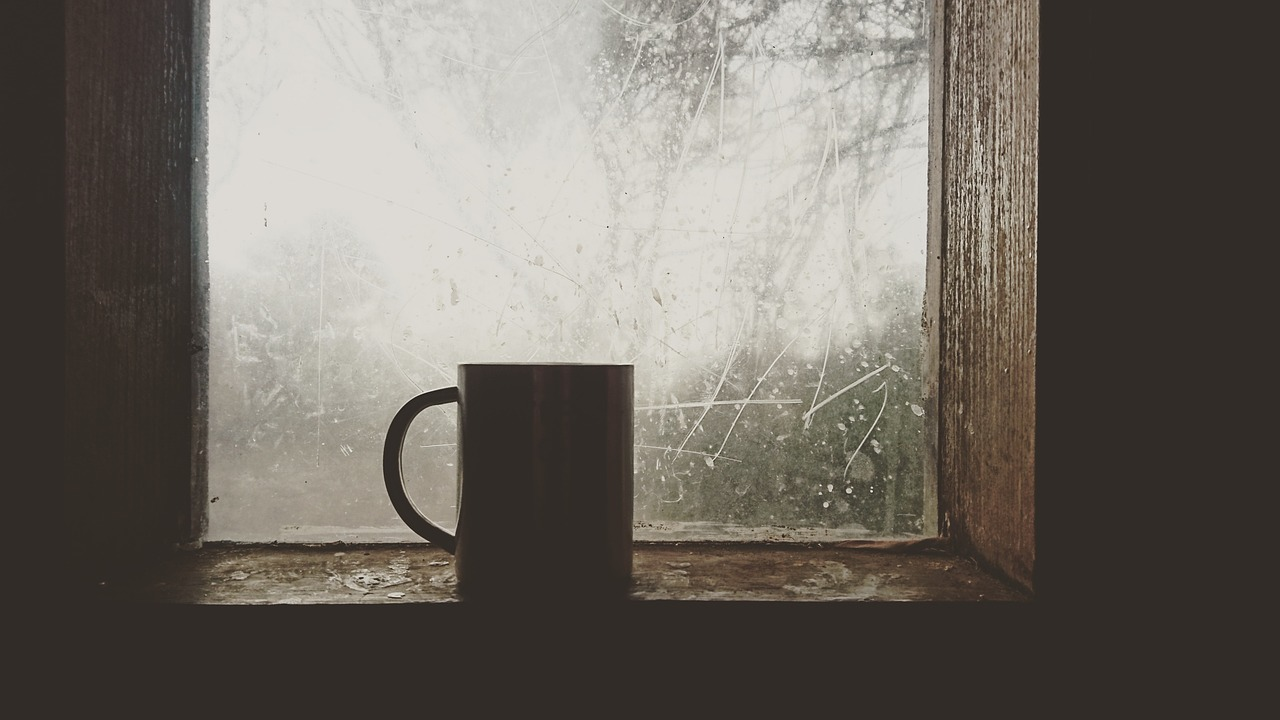mug: (346, 344, 652, 641)
